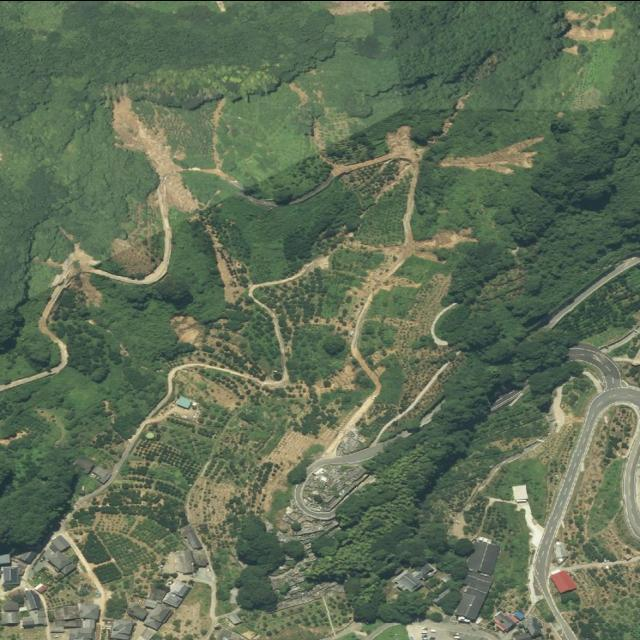landslide: (300, 124, 429, 460), (111, 93, 208, 211), (245, 255, 329, 384), (369, 360, 450, 445), (109, 195, 162, 276), (440, 135, 545, 172), (565, 1, 617, 40), (293, 486, 332, 523), (169, 315, 203, 344), (328, 0, 389, 13)
